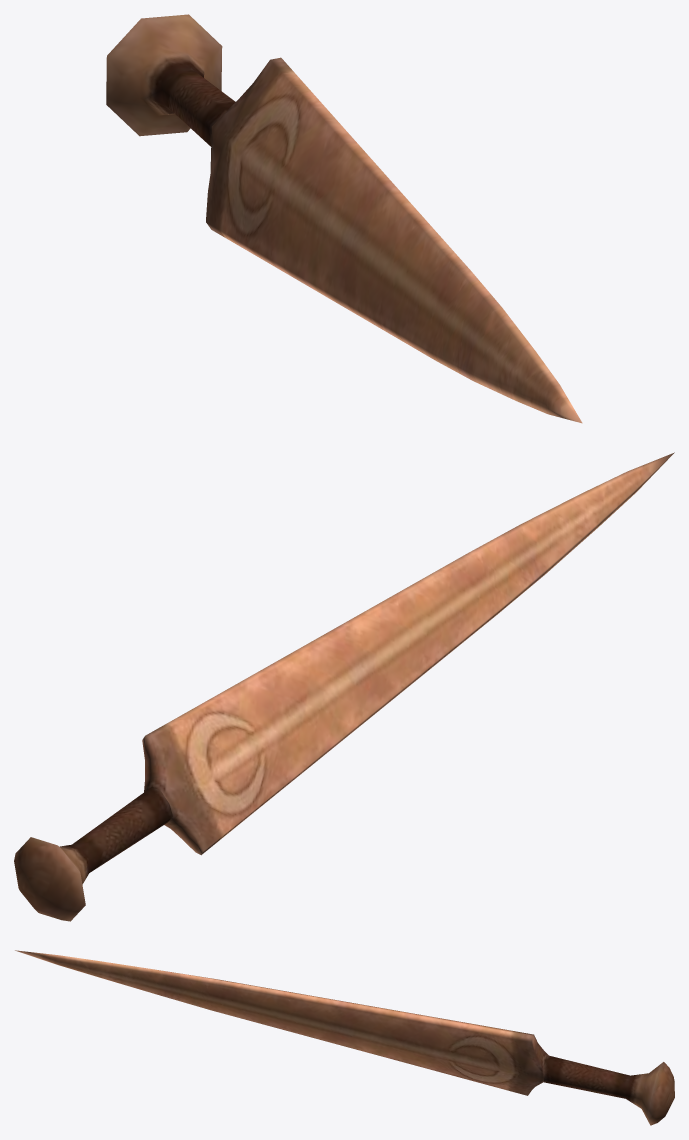
File: rider-weapon-slice-copperweapons.glb
The picture shows the model from 3 angles, top to bottom: view 1: azimuth 30°, elevation 25°; view 2: azimuth 150°, elevation 25°; view 3: azimuth 270°, elevation 25°; orthographic projection. The views are drawn at different scales.
Bounding box in the file's own units: 0.2479 × 0.1995 × 1.02.
1 material, 1 textured.
